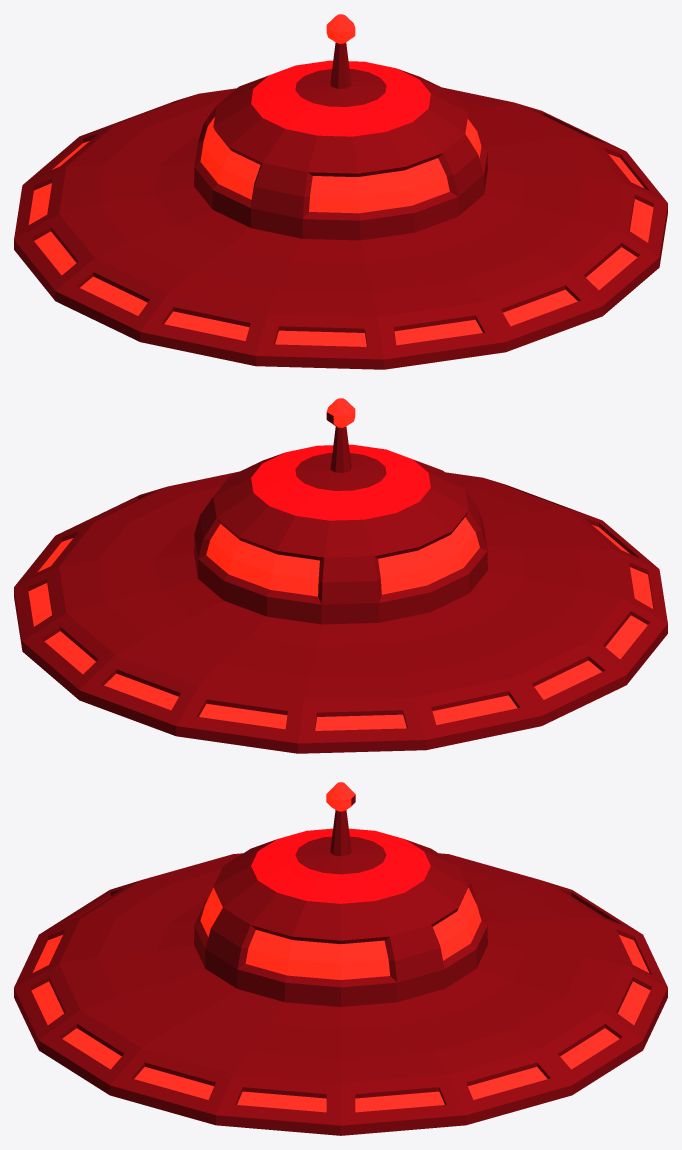
The model's file is ufo red.fbx.
The picture shows the model from 3 angles, top to bottom: view 1: azimuth 30°, elevation 25°; view 2: azimuth 150°, elevation 25°; view 3: azimuth 270°, elevation 25°; orthographic projection.
Parts seen in each view (by area): view 1: Cube; view 2: Cube; view 3: Cube.
Part boxes in pixels (bbox=[...]): Cube: bbox=[14, 14, 667, 369]; Cube: bbox=[14, 398, 667, 753]; Cube: bbox=[14, 782, 667, 1135].
Size of the model in its own units: 256 by 104 by 256.
